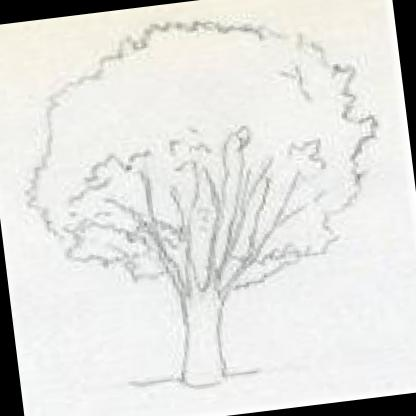branch_dizzy: (5, 0, 393, 313)
branch_line: (123, 160, 282, 309)
root_none: (159, 354, 255, 416)
trunk_straight: (176, 299, 233, 377)
